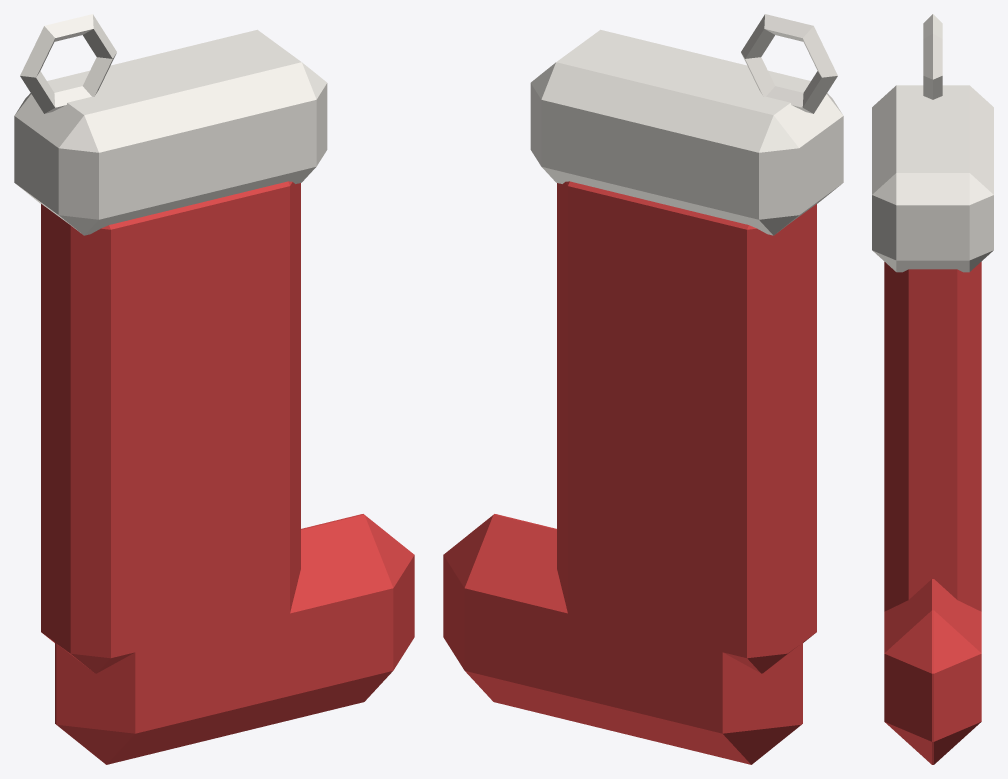
The model's file is Stocking.fbx.
3 renders of one model, left to right at view 1: azimuth 30°, elevation 25°; view 2: azimuth 150°, elevation 25°; view 3: azimuth 270°, elevation 25°, orthographic. The views are drawn at different scales.
Visible parts, largest first — view 1: Stocking; view 2: Stocking; view 3: Stocking.
Part boxes in pixels (bbox=[...]): Stocking: bbox=[14, 14, 414, 764]; Stocking: bbox=[443, 14, 843, 764]; Stocking: bbox=[872, 14, 993, 764].
Bounding box in the file's own units: 1.54 × 2.81 × 0.5.
Materials: 1 (1 with a texture image).
